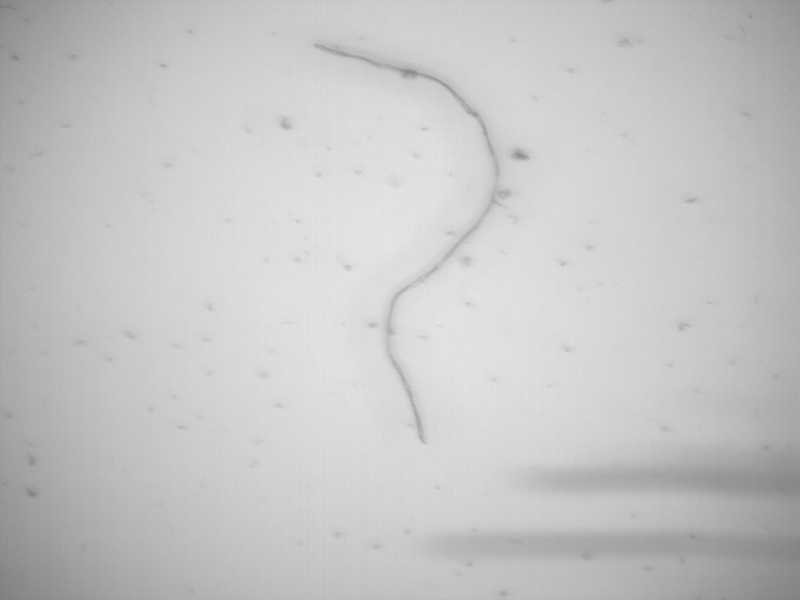fiber: (312, 41, 507, 450)
